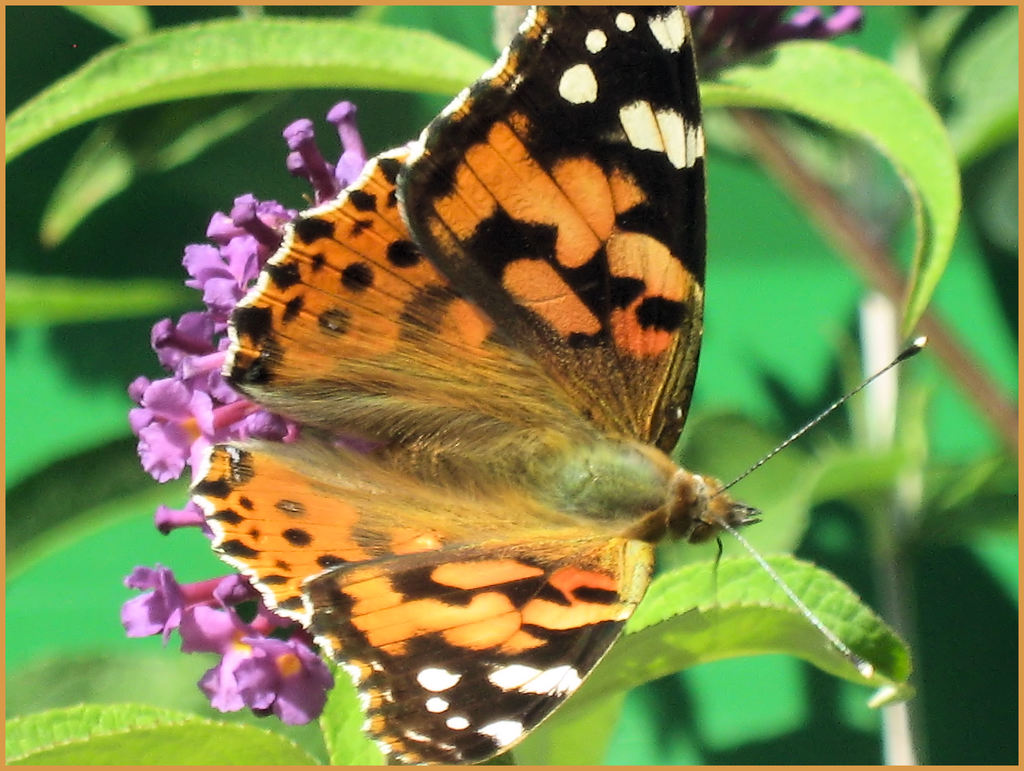Butterfly: (156, 6, 931, 771)
